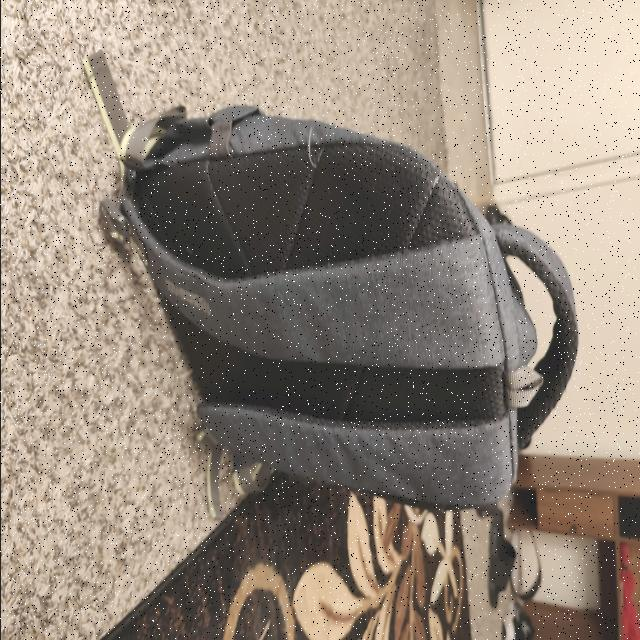bag: (126, 126, 577, 508)
